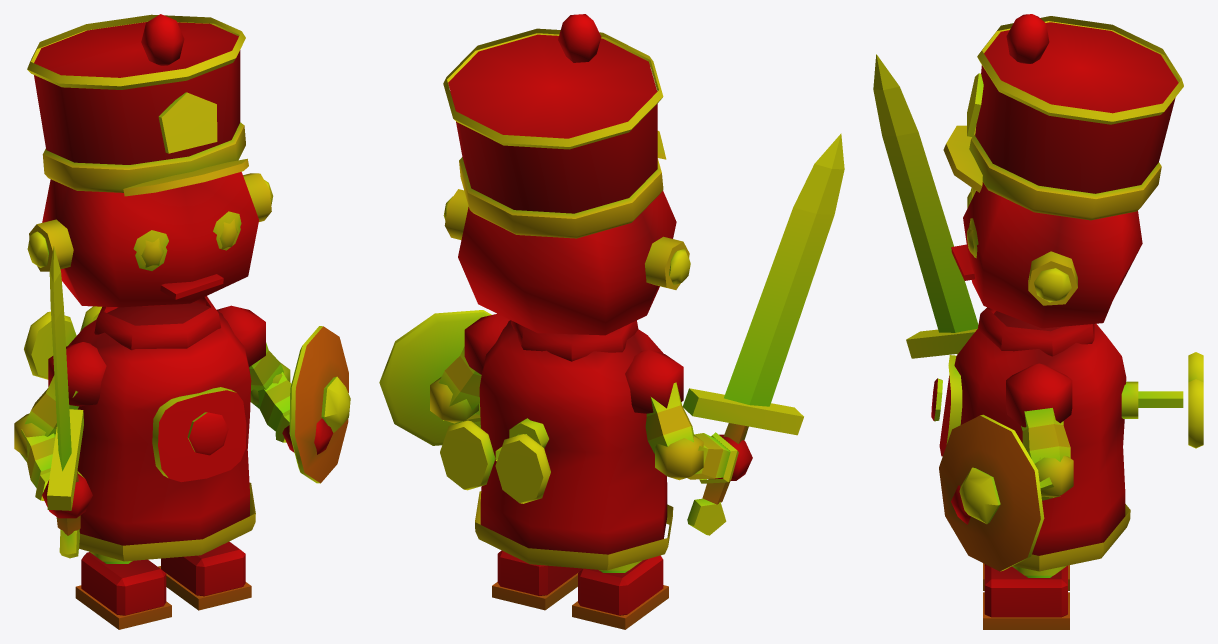
Rendered from RobotTrooper_LOD1.glb.
3 renders of one model, left to right at view 1: azimuth 30°, elevation 25°; view 2: azimuth 150°, elevation 25°; view 3: azimuth 270°, elevation 25°, orthographic.
Visible parts, largest first — view 1: RobotTrooper_LOD1; view 2: RobotTrooper_LOD1; view 3: RobotTrooper_LOD1.
Boxes of the visible parts, x1,y1,x2,y2 form: RobotTrooper_LOD1: (14, 14, 350, 629); RobotTrooper_LOD1: (379, 14, 844, 629); RobotTrooper_LOD1: (873, 14, 1203, 629).
Size of the model in its own units: 0.686 by 1.01 by 0.5161.
